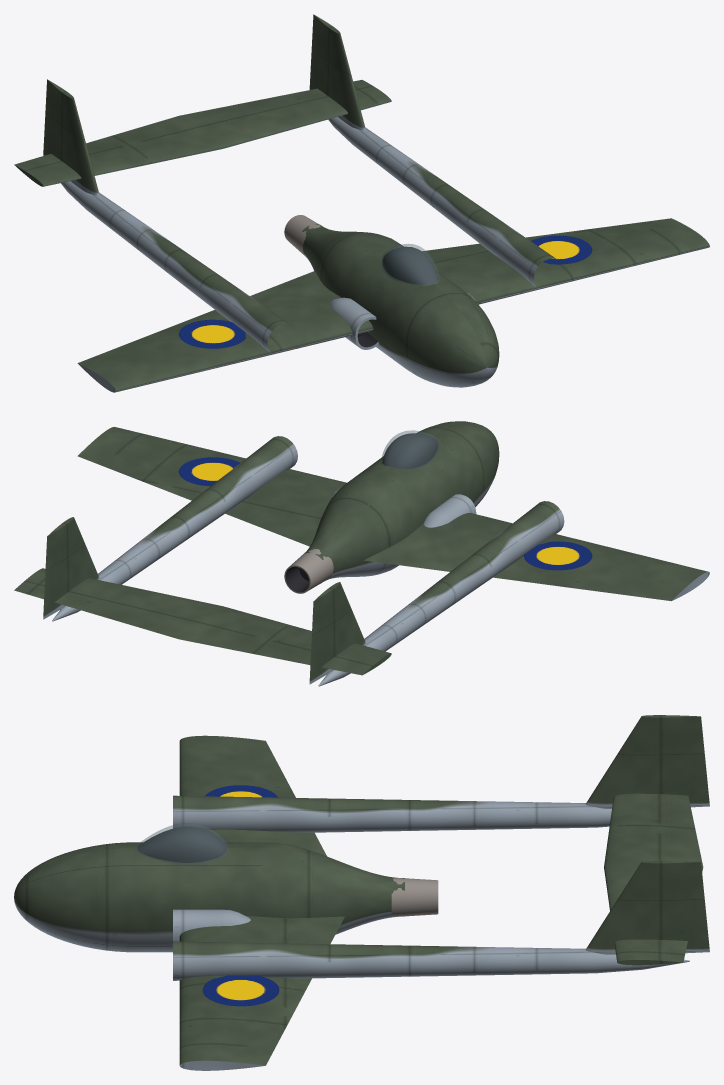
3 views of the same model, one above another, from view 1: azimuth 30°, elevation 25°; view 2: azimuth 150°, elevation 25°; view 3: azimuth 270°, elevation 25° (orthographic). The views are drawn at different scales.
Visible parts, largest first — view 1: Fuselage, Wing0_R, Wing0_L, Boom_R, Boom_L, Htail1_R, Htail1_L, Fin2_R, Fin2_L, Canopy, Cockpit, Decal_Wing_U_R (+3 smaller); view 2: Fuselage, Wing0_R, Wing0_L, Boom_R, Boom_L, Htail1_R, Htail1_L, Fin2_R, Fin2_L, Canopy, Decal_Wing_U_R, Cockpit (+3 smaller); view 3: Fuselage, Boom_L, Boom_R, Wing0_L, Fin2_L, Fin2_R, Wing0_R, Htail1_R, Canopy, Htail1_L, Cockpit, Decal_Wing_U_L (+3 smaller).
Part boxes in pixels (x1,y1,x2,y2): Fuselage: (302,224,499,387); Wing0_R: (77,271,373,392); Wing0_L: (422,218,709,304); Boom_R: (61,181,290,351); Boom_L: (328,117,557,287); Htail1_R: (14,116,223,186); Htail1_L: (179,80,391,148); Fin2_R: (43,79,99,195); Fin2_L: (309,14,365,130); Canopy: (381,244,439,285); Cockpit: (382,246,438,284); Decal_Wing_U_R: (178,319,246,348); Fuselage: (303,421,499,580); Wing0_R: (363,513,709,601); Wing0_L: (77,427,346,546); Boom_R: (318,501,564,686); Boom_L: (52,436,297,621); Htail1_R: (179,606,391,675); Htail1_L: (14,568,222,639); Fin2_R: (309,582,365,684); Fin2_L: (43,517,99,619); Canopy: (381,430,439,469); Decal_Wing_U_R: (524,541,592,570); Cockpit: (382,433,438,469); Fuselage: (14,842,404,952); Boom_L: (173,941,689,980); Boom_R: (173,795,611,832); Wing0_L: (179,916,344,1070); Fin2_L: (585,860,709,954); Fin2_R: (585,715,709,808); Wing0_R: (179,735,326,856); Htail1_R: (604,793,703,867); Canopy: (135,823,228,864); Htail1_L: (604,863,703,965); Cockpit: (137,826,227,862); Decal_Wing_U_L: (202,975,279,1006).
Size of the model in its own units: 11.6 by 2.62 by 10.5.
6 materials, 2 textured.
